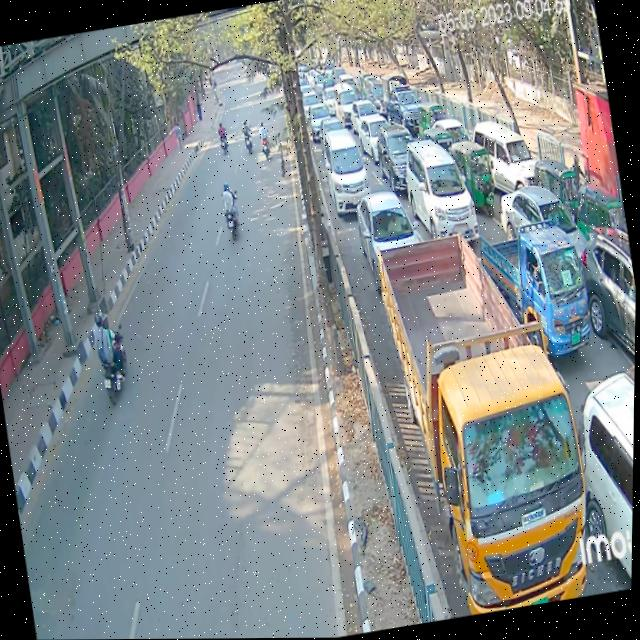cng: (571, 181, 632, 263), (447, 131, 501, 223), (534, 145, 589, 235), (412, 99, 450, 148)
